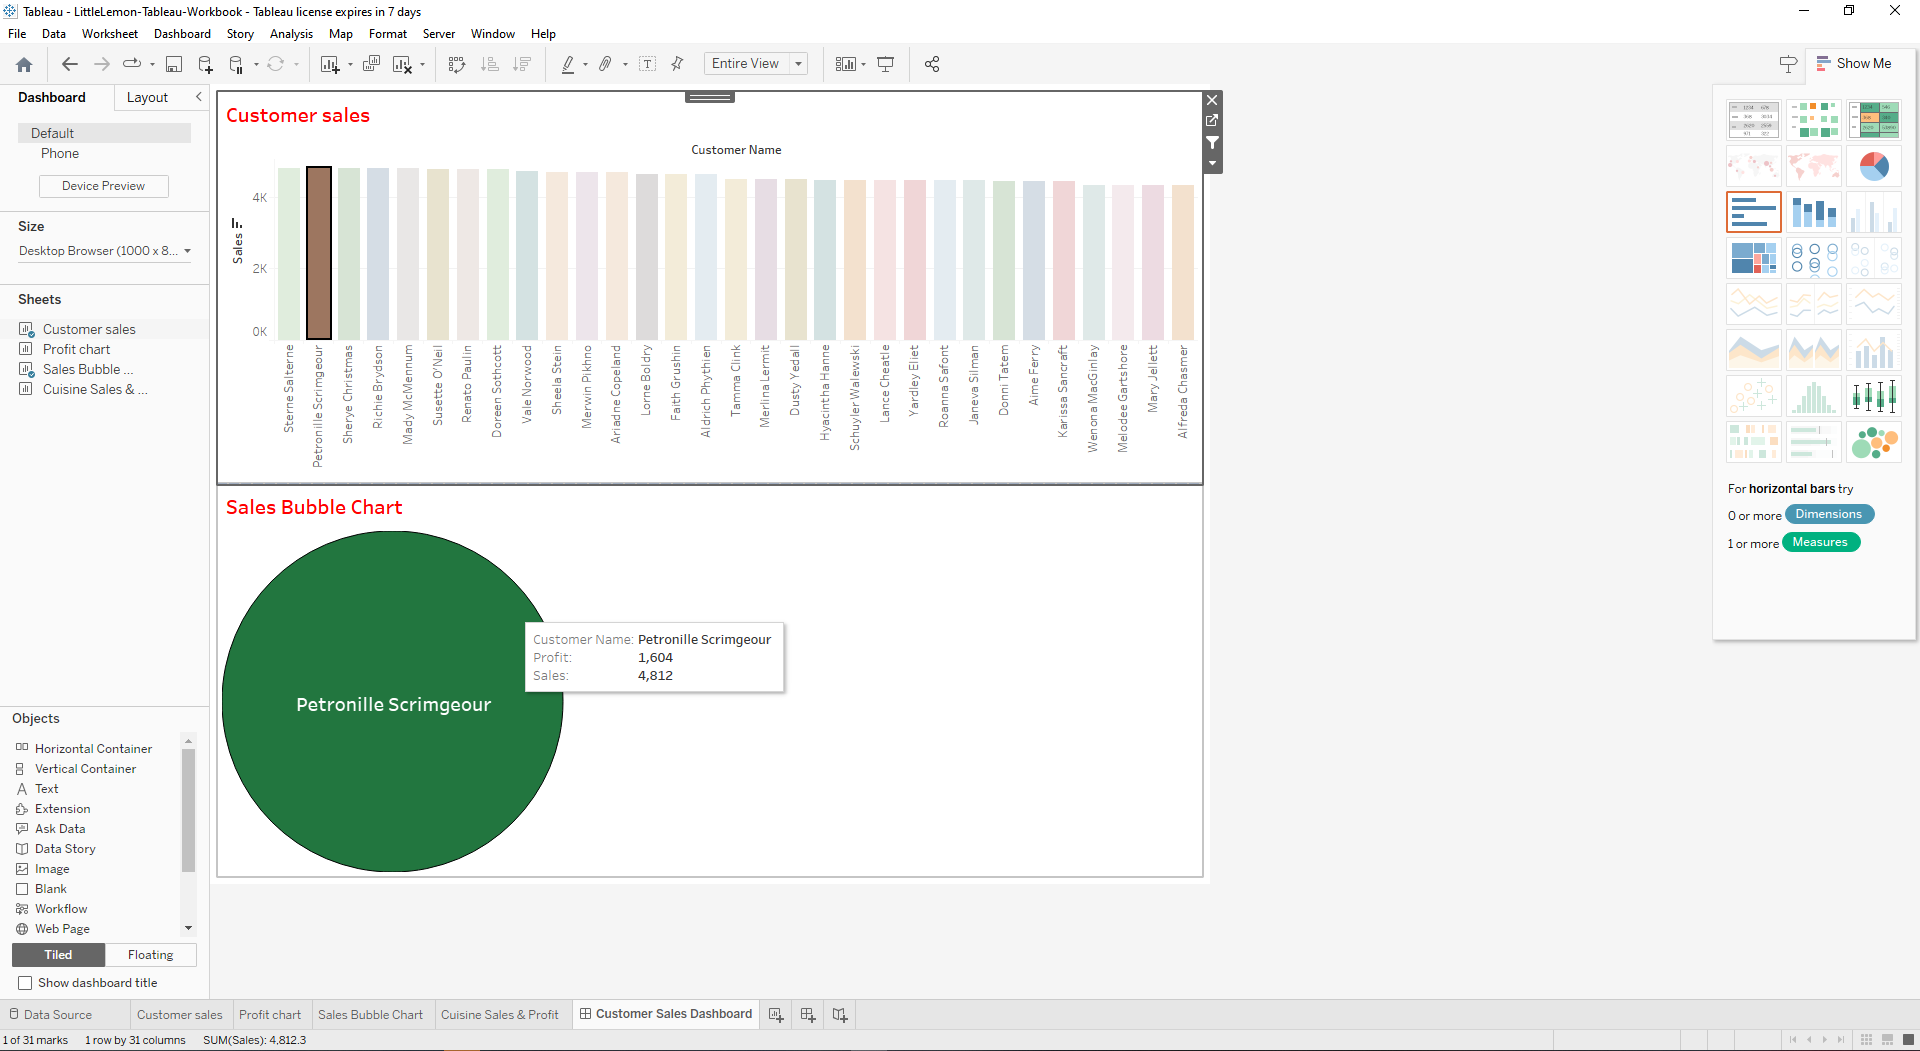

Layout of this report page (visuals, bound fields, positions):
{"tool":"tableau","page":{"name":"Customer Sales Dashboard","canvas":[1000,800],"ordinal":0},"visuals":[{"type":"worksheet","title":"Customer sales","mark":"Automatic","rows":["Sales"],"cols":["Customer Name"],"box":[8,8,984,392]},{"type":"worksheet","title":"Sales Bubble Chart","mark":"Circle","box":[8,400,984,392]}]}

Visuals, with their boxes on the page's 1000x800 design canvas (x1, y1, x2, y2). These are canvas units, not pixel positions in the 1920x1051 screenshot, which may show the page scaled, cropped or inside an application window:
"Customer sales" worksheet: pyautogui.locateOnScreen(8, 8, 992, 400)
"Sales Bubble Chart" worksheet (Circle marks): pyautogui.locateOnScreen(8, 400, 992, 792)
